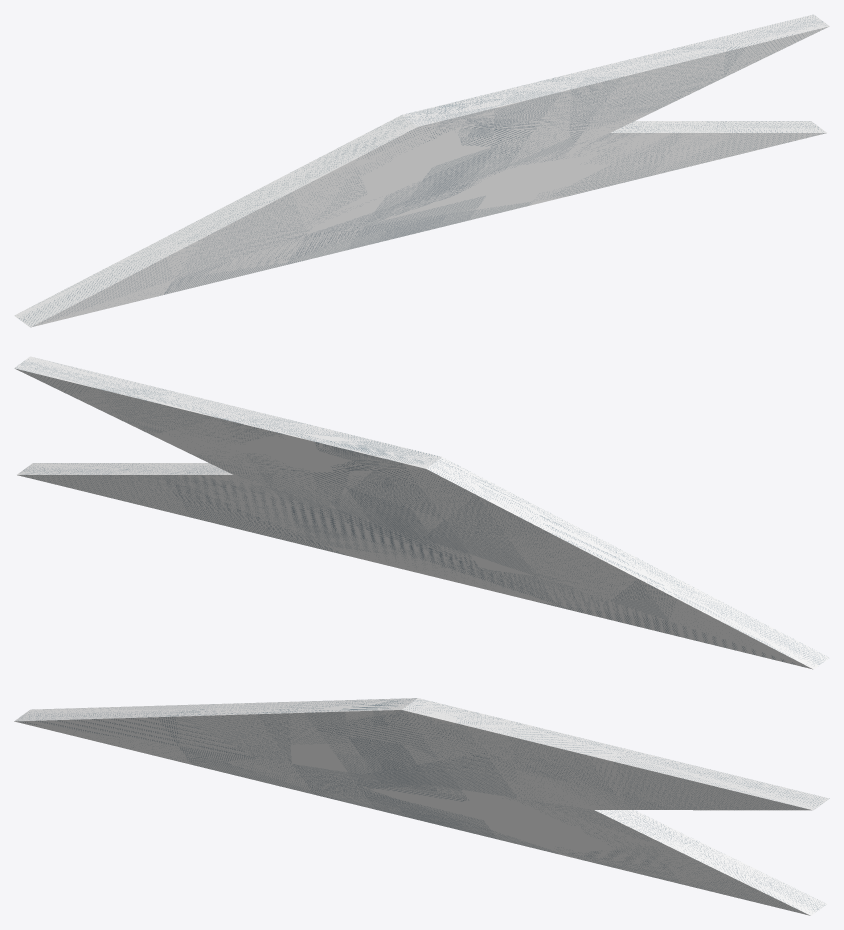
The model's file is senti-mesh-hate-4.dae.
3 views of the same model, one above another, from view 1: azimuth 30°, elevation 25°; view 2: azimuth 150°, elevation 25°; view 3: azimuth 330°, elevation 25° (orthographic).
Visible parts, largest first — view 1: SketchUp; view 2: SketchUp; view 3: SketchUp.
Part boxes in pixels (x1,y1,x2,y2): SketchUp: (14,14,829,327); SketchUp: (14,356,829,669); SketchUp: (14,698,829,915).
Bounding box in the file's own units: 21.66 × 0.7651 × 2.75.
